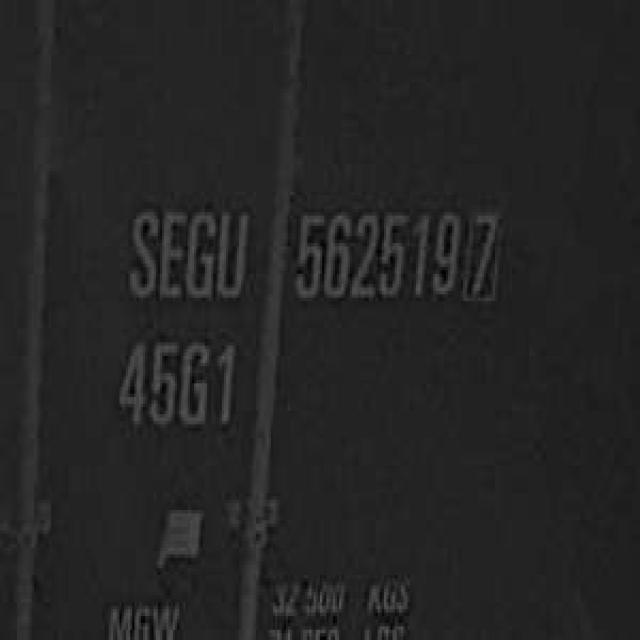dv: (460, 202, 506, 308)
owner: (119, 195, 252, 308)
serial: (286, 198, 459, 315)
size: (111, 328, 241, 442)
